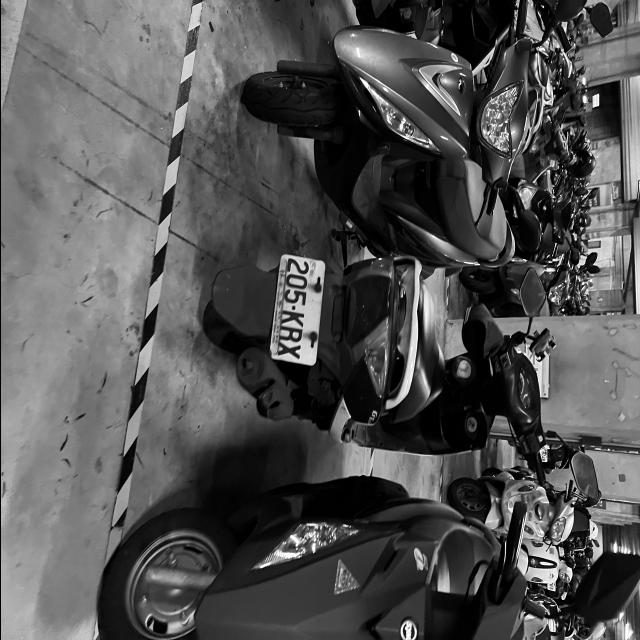-: (290, 305, 296, 310)
0: (286, 274, 308, 289)
2: (286, 259, 310, 273)
5: (283, 290, 307, 304)
K: (280, 310, 304, 329)
R: (278, 325, 304, 344)
X: (276, 343, 304, 359)
plate: (270, 258, 324, 360)
